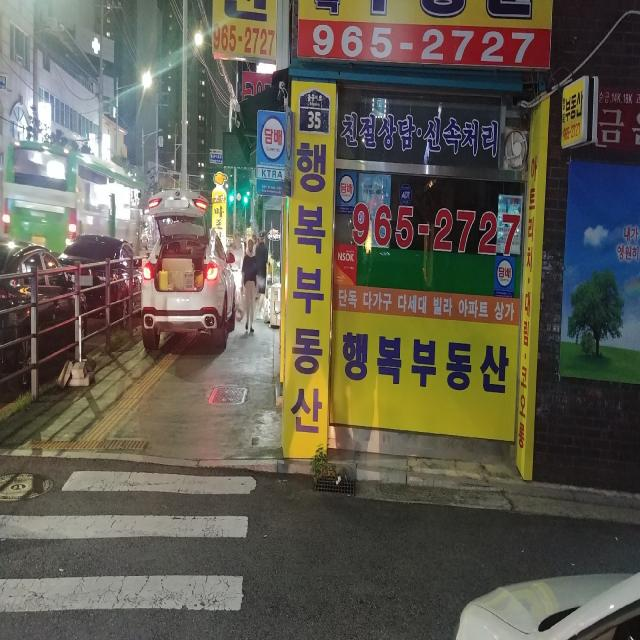횡단보도: (0, 468, 259, 615)
